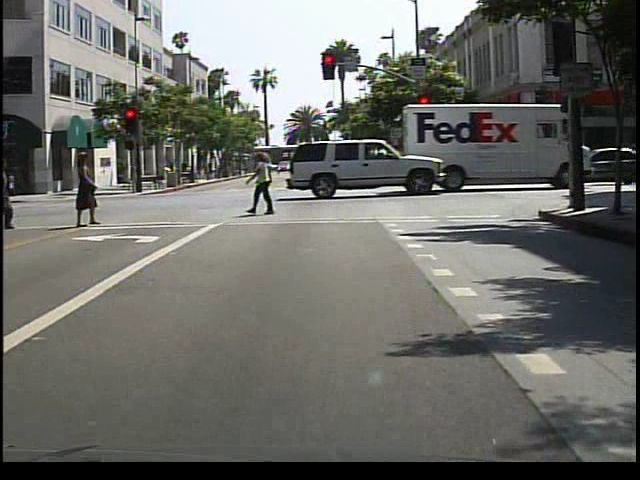person: (70, 147, 104, 229), (249, 149, 285, 218), (4, 153, 27, 230), (180, 157, 194, 184)
